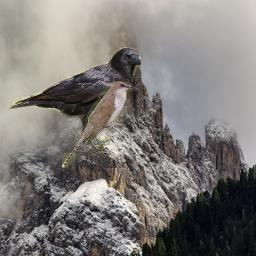Crow: (5, 47, 141, 155)
Cuckoo: (62, 81, 136, 168)
